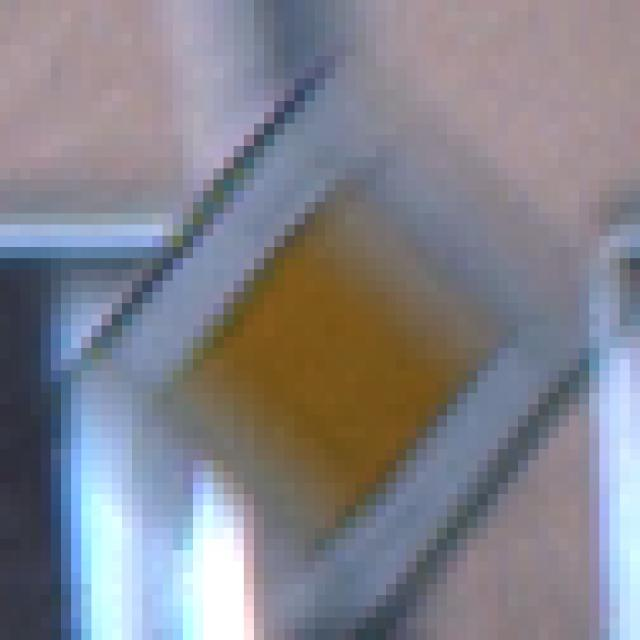Main Road: (62, 57, 590, 585)
